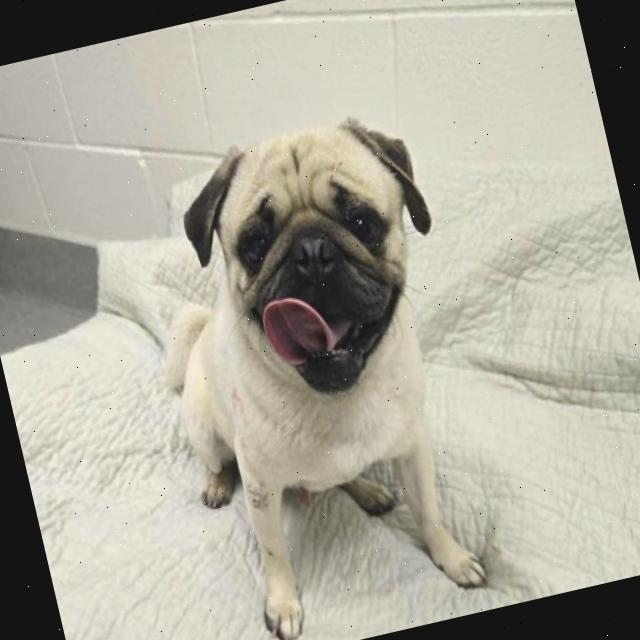pug_dog: (154, 78, 478, 432)
